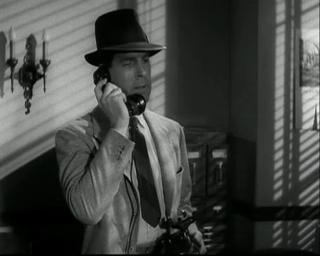face: (116, 52, 152, 103)
ms: (1, 1, 320, 256)
person: (55, 7, 207, 256)
